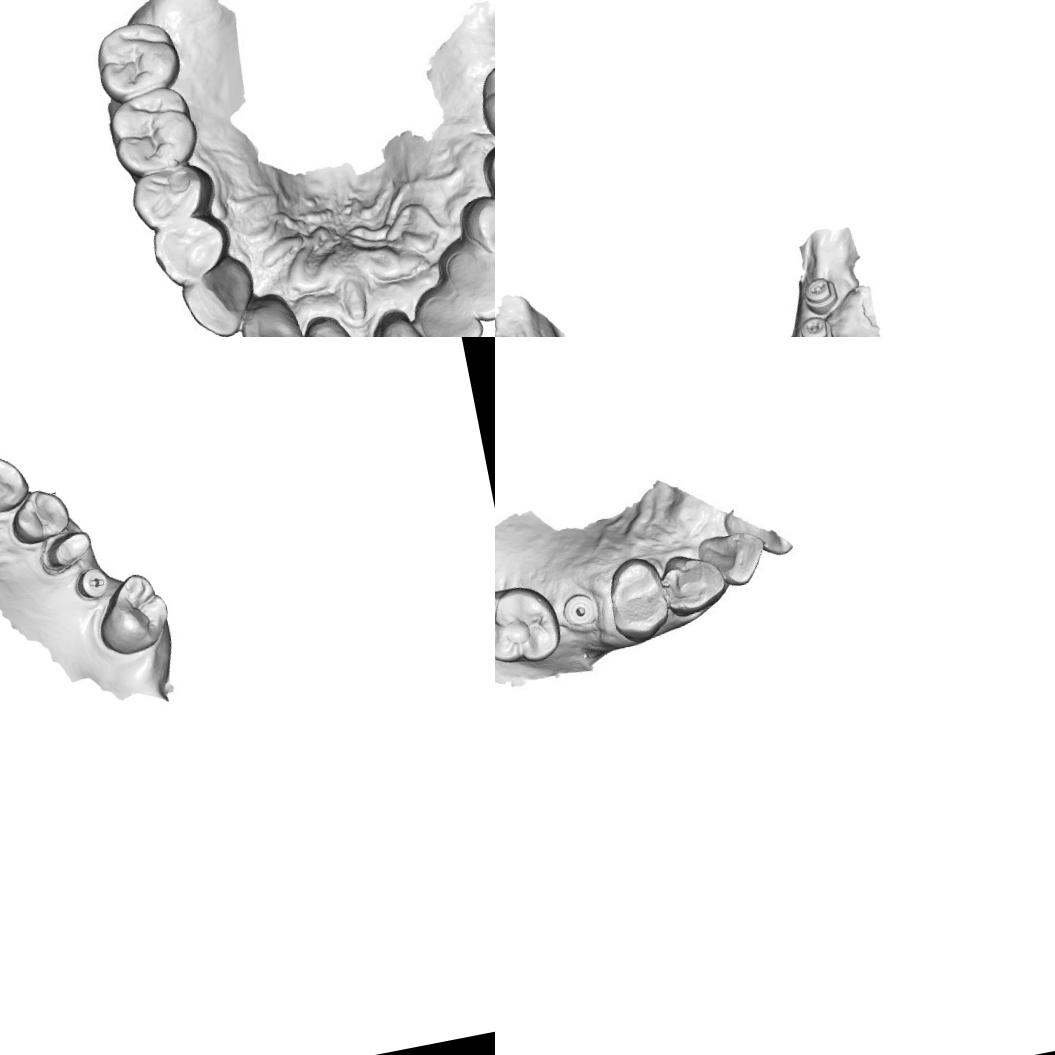canine: (177, 254, 259, 337), (659, 546, 730, 619), (444, 235, 495, 327), (0, 448, 33, 516)
crown: (33, 524, 98, 579)
implant: (557, 588, 602, 636)
implant_minus: (70, 563, 114, 606), (799, 274, 841, 318)
implant_plus: (791, 311, 837, 337)
incisor: (696, 526, 770, 590), (414, 283, 487, 337), (234, 288, 310, 337), (362, 308, 444, 337), (292, 308, 373, 337)
molar: (102, 85, 199, 176), (88, 566, 176, 662), (92, 17, 178, 95), (495, 579, 562, 667)
premolar: (144, 208, 236, 289), (126, 155, 216, 233), (600, 552, 672, 644), (4, 483, 73, 547), (465, 189, 495, 266)
